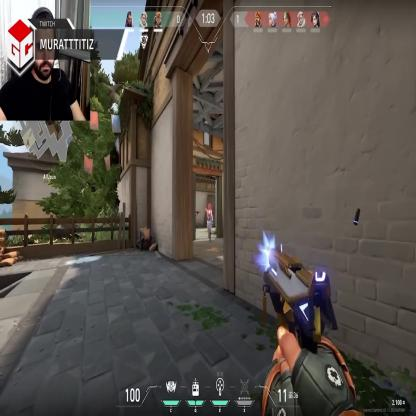enemy: (192, 206, 201, 236), (206, 204, 213, 240)
enemy_head: (208, 204, 210, 210)
